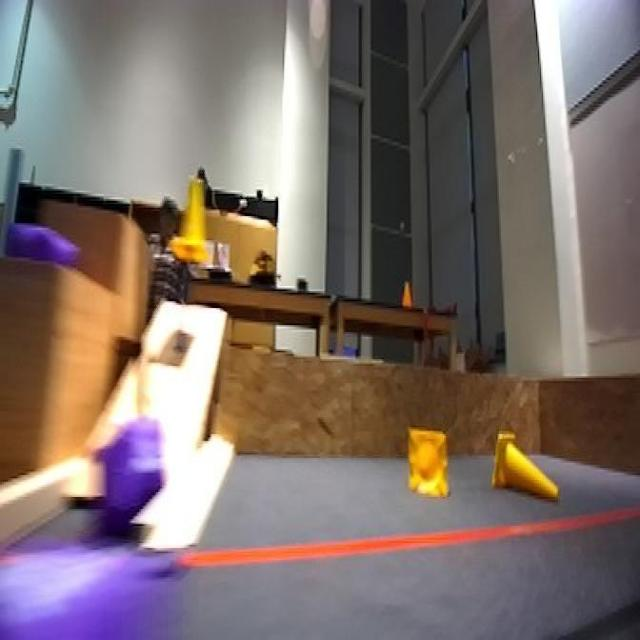frc_cone: (490, 419, 570, 512), (172, 175, 216, 269), (406, 427, 450, 494)
frc_cube: (0, 522, 185, 640), (88, 402, 157, 548), (12, 216, 72, 274)
